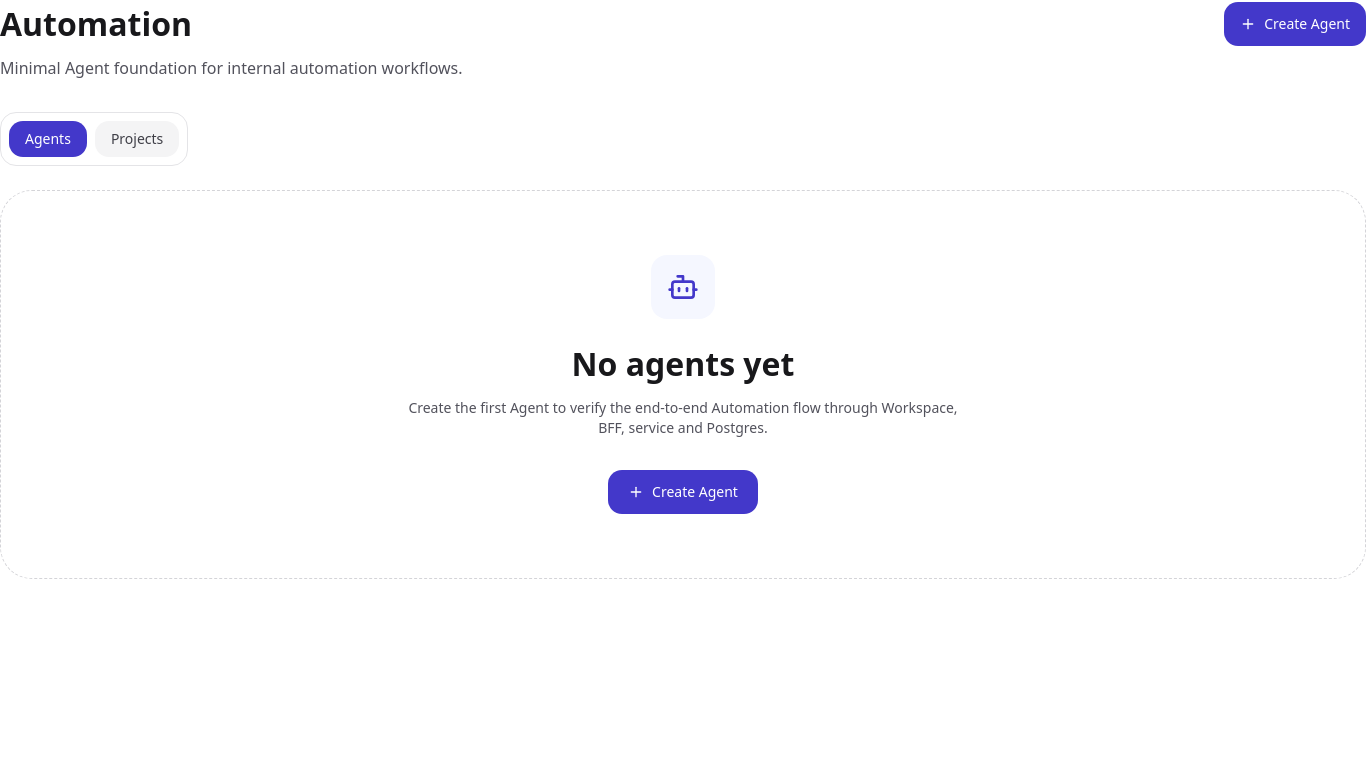
Test: AutomationPage › creates project and prepends it to projects list
Expected: the heading "No agents yet" is shown, top-left (572, 342), bottom-right (794, 385)
Click the button "Projects": {"x": 137, "y": 139} top-left (95, 121), bottom-right (179, 157)
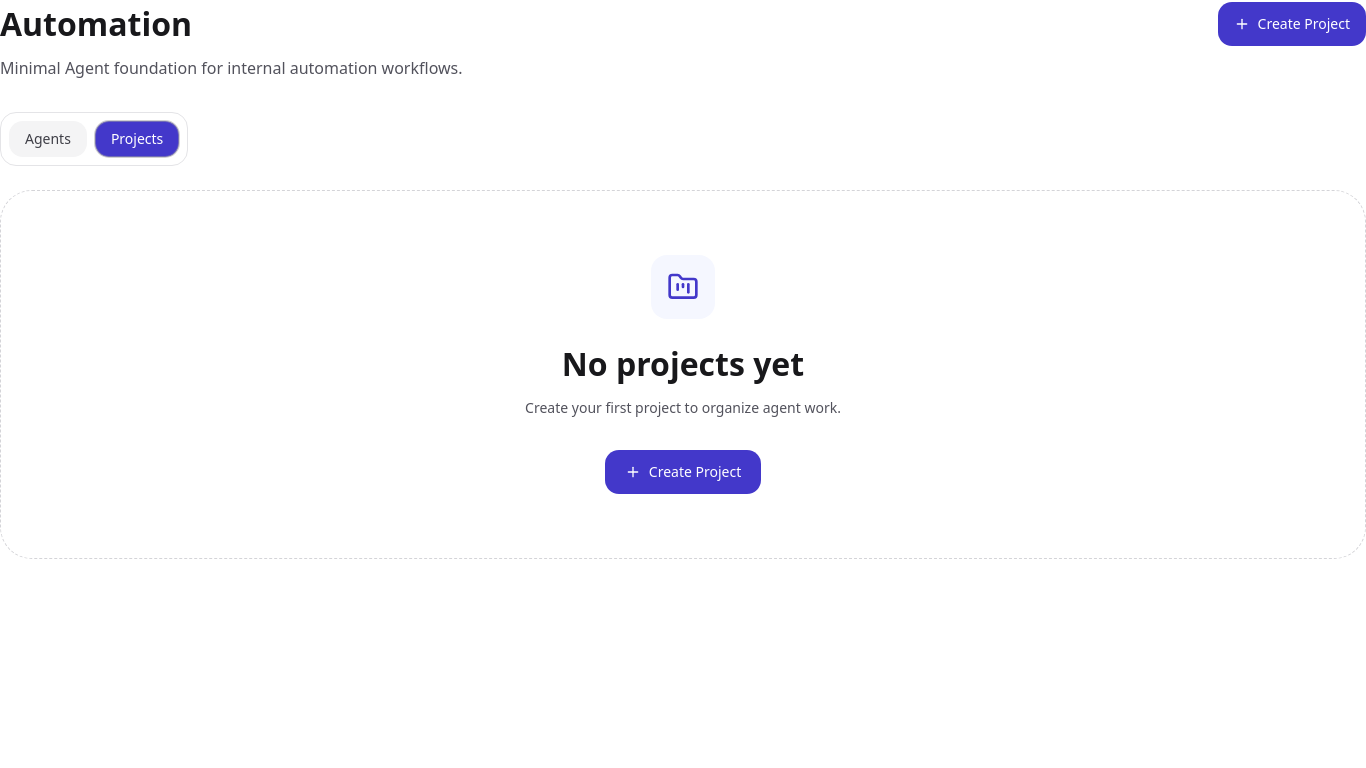
Click the 1st button "Create Project": {"x": 1292, "y": 24} top-left (1218, 2), bottom-right (1365, 46)
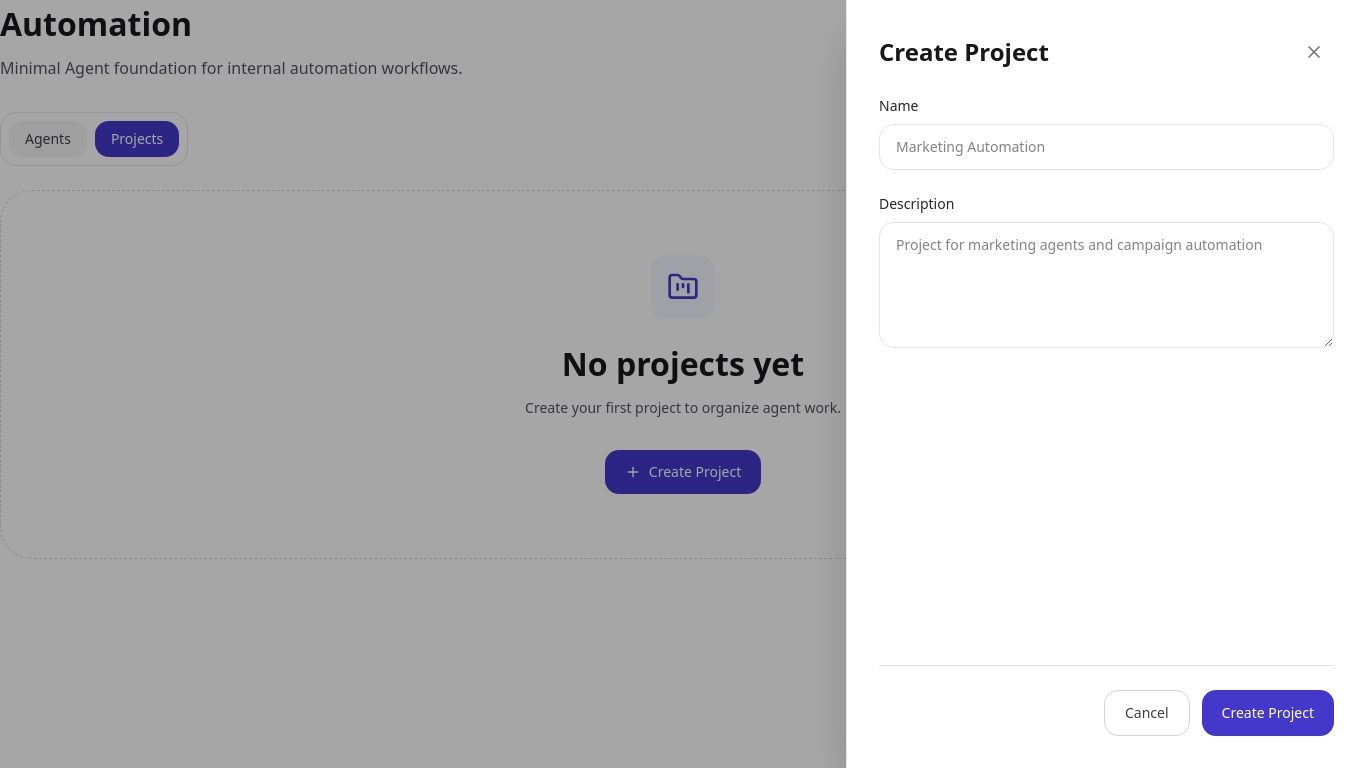
In the field labelled "Name": {"x": 1106, "y": 147} top-left (879, 124), bottom-right (1334, 170), type "  Marketing Automation  "
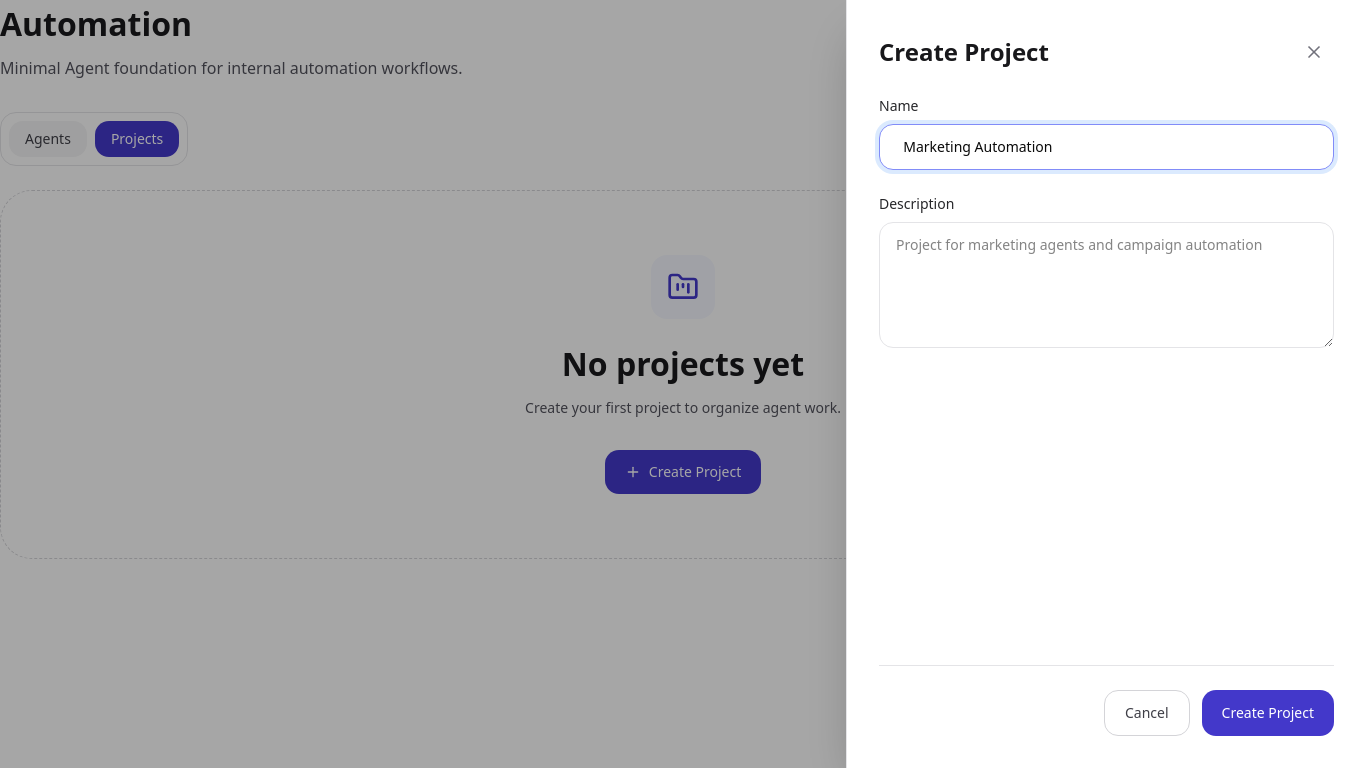
In the text box labelled "Description": {"x": 1106, "y": 285} top-left (879, 222), bottom-right (1334, 348), type "  Campaign automations  "
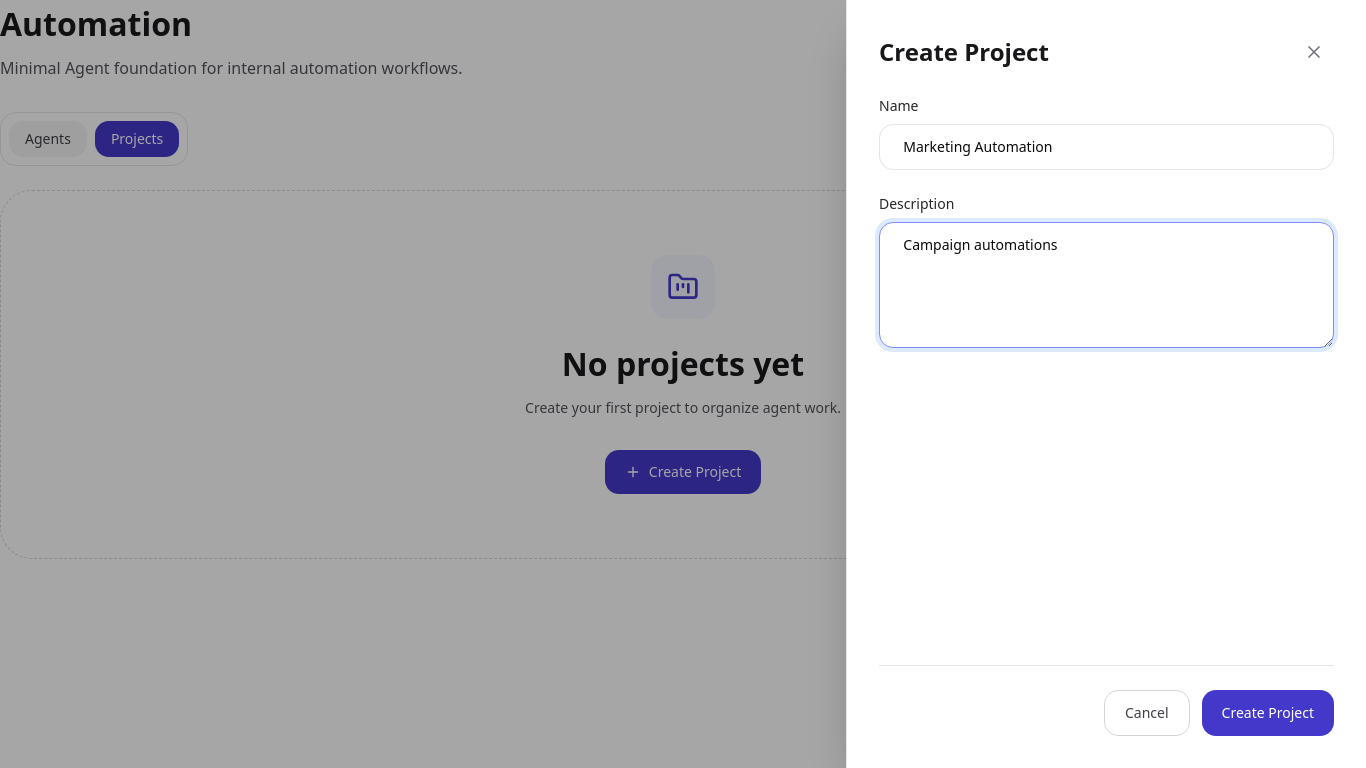
Click the button "Create Project": {"x": 1268, "y": 713} top-left (1202, 690), bottom-right (1334, 736)
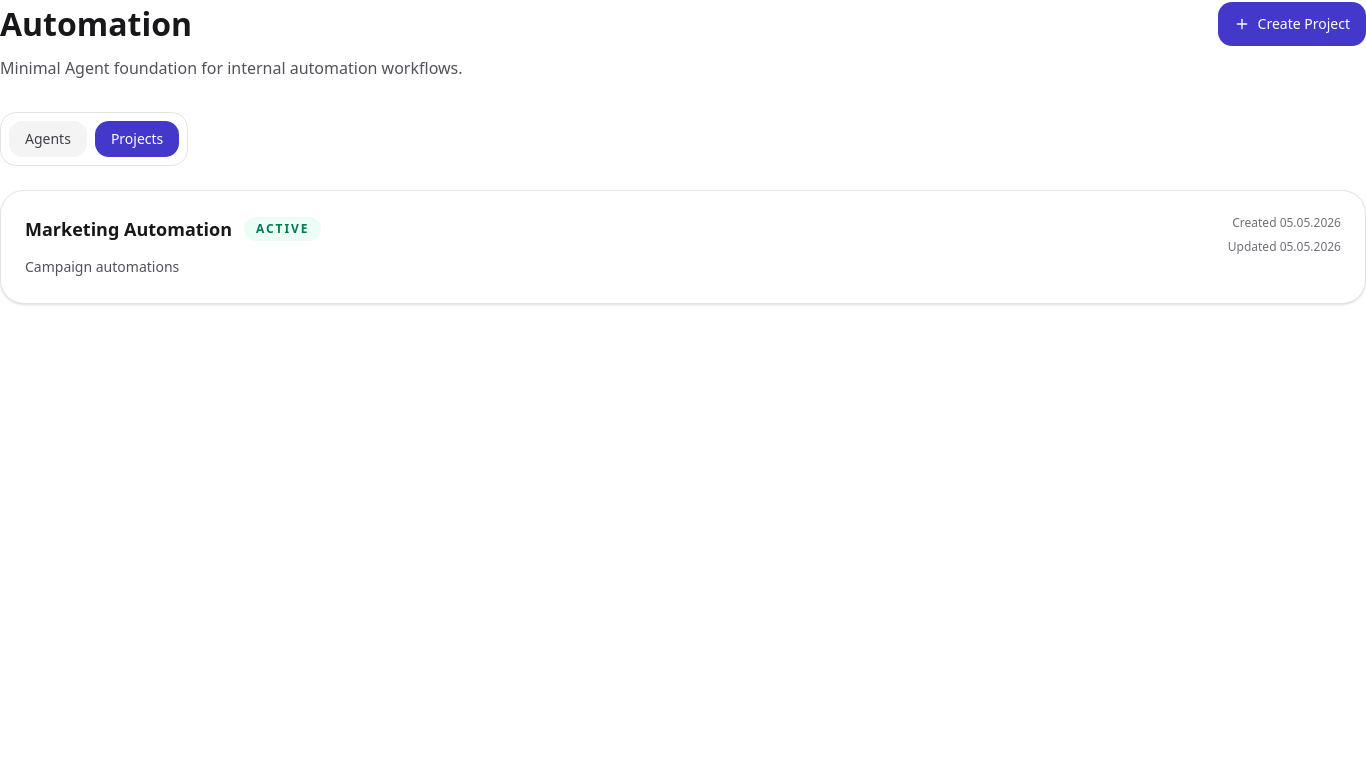
Now the heading "Marketing Automation" is shown, box top-left (25, 215), bottom-right (232, 243)
Now the text "Campaign automations" is shown, box top-left (25, 257), bottom-right (179, 276)
Now the text "ACTIVE" is shown, box top-left (244, 217), bottom-right (321, 241)
